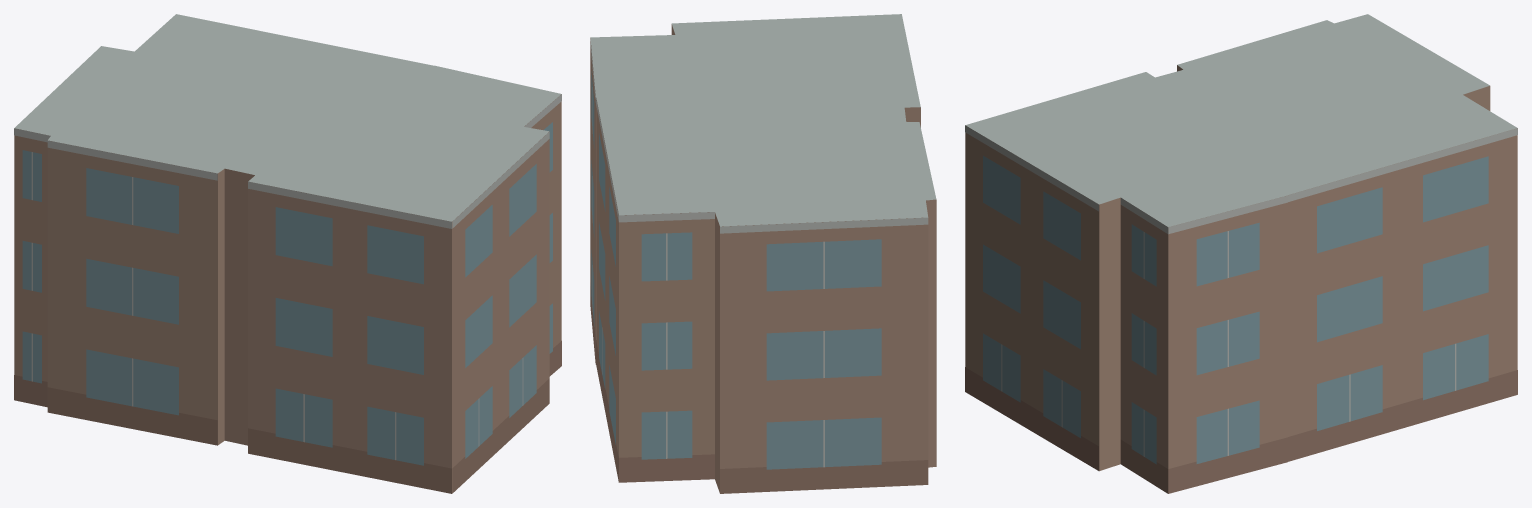
File: survey-upis-32674599.glb
3 renders of one model, left to right at view 1: azimuth 30°, elevation 25°; view 2: azimuth 150°, elevation 25°; view 3: azimuth 270°, elevation 25°, orthographic. The views are drawn at different scales.
Visible parts, largest first — view 1: survey-upis-32674599.tmp; view 2: survey-upis-32674599.tmp; view 3: survey-upis-32674599.tmp.
Part boxes in pixels (bbox=[...]): survey-upis-32674599.tmp: bbox=[14, 14, 561, 493]; survey-upis-32674599.tmp: bbox=[590, 14, 936, 493]; survey-upis-32674599.tmp: bbox=[965, 14, 1517, 493].
Size of the model in its own units: 15.69 by 9.15 by 17.19.
